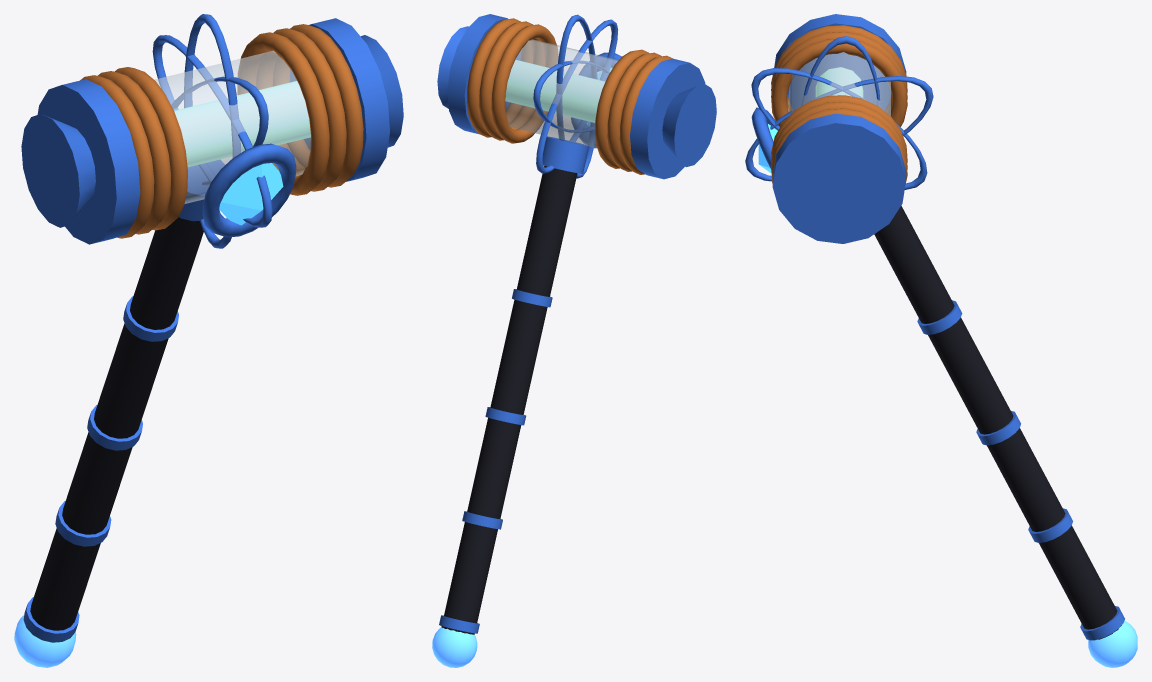
Rendered from hand_eqgw1.glb.
3 renders of one model, left to right at view 1: azimuth 30°, elevation 25°; view 2: azimuth 150°, elevation 25°; view 3: azimuth 270°, elevation 25°, orthographic. The views are drawn at different scales.
Bounding box in the file's own units: 1.87 × 4.25 × 2.4.
